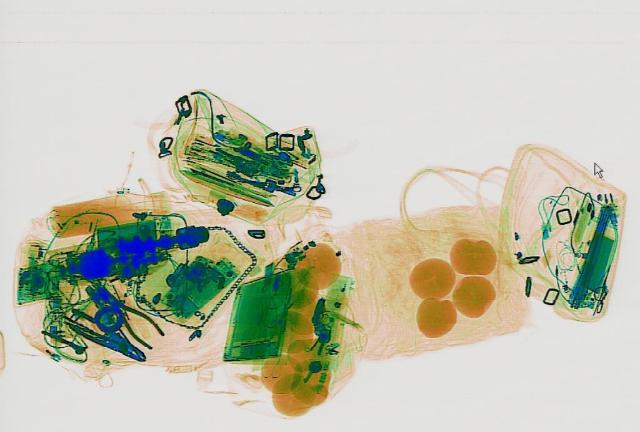Pliers: (82, 279, 174, 348), (51, 305, 157, 364)
